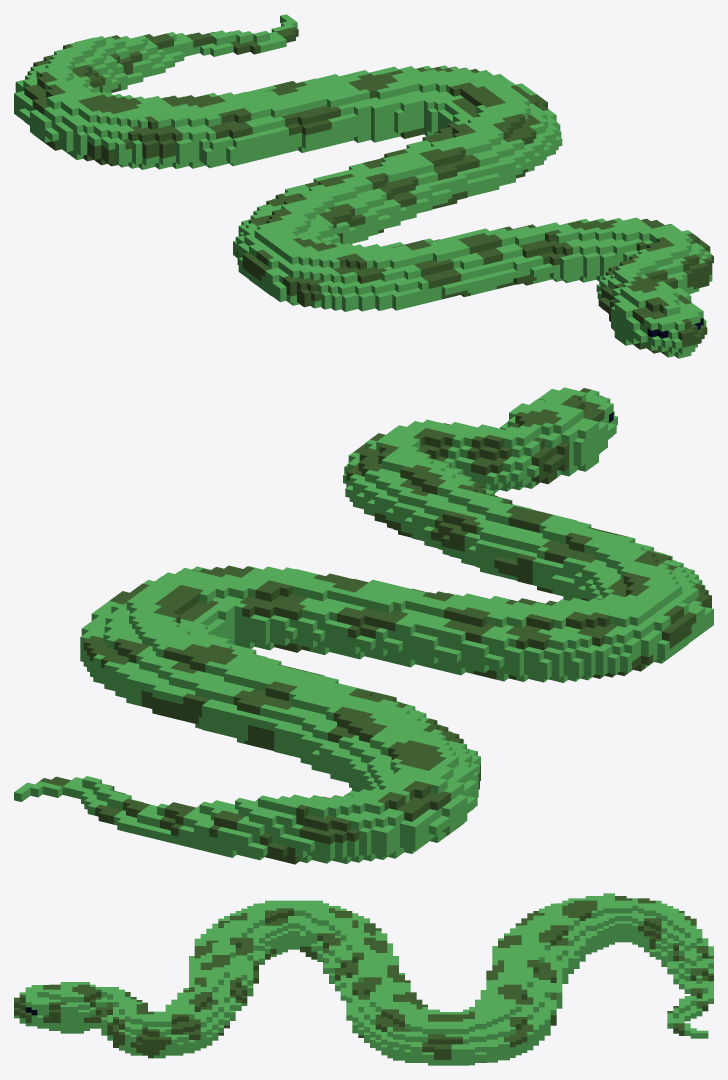
The model's file is realsneak.obj.
The picture shows the model from 3 angles, top to bottom: view 1: azimuth 30°, elevation 25°; view 2: azimuth 150°, elevation 25°; view 3: azimuth 270°, elevation 25°; orthographic projection. The views are drawn at different scales.
Bounding box in the file's own units: 6.1 × 0.6 × 12.
1 material, 1 textured.
